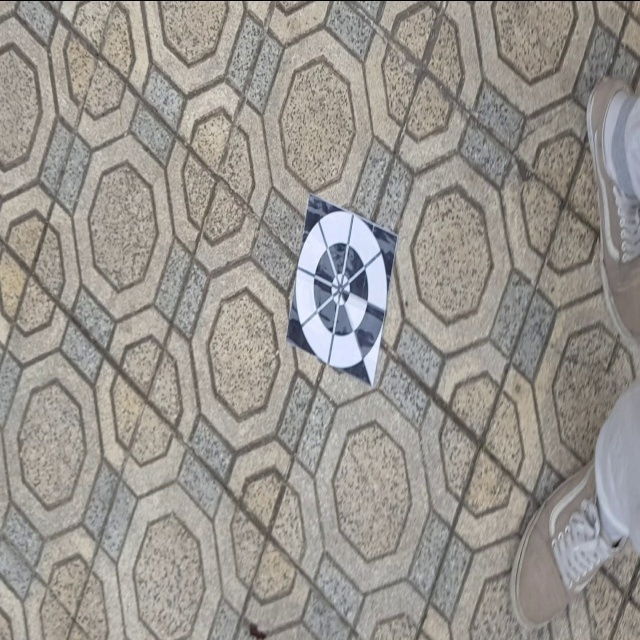landing-zone: (285, 194, 400, 385)
